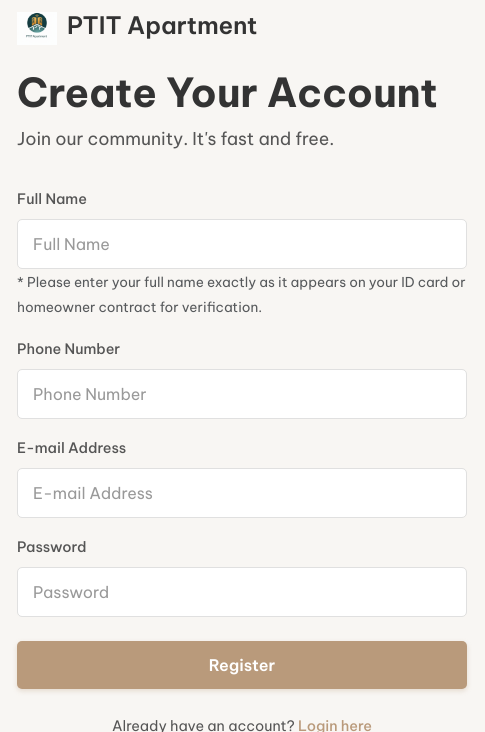
Test case: Register Page › handles successful registration
Type "John Doe" into the field with placeholder "Full Name" at (242, 244), box x1=17 y1=219 x2=467 y2=269
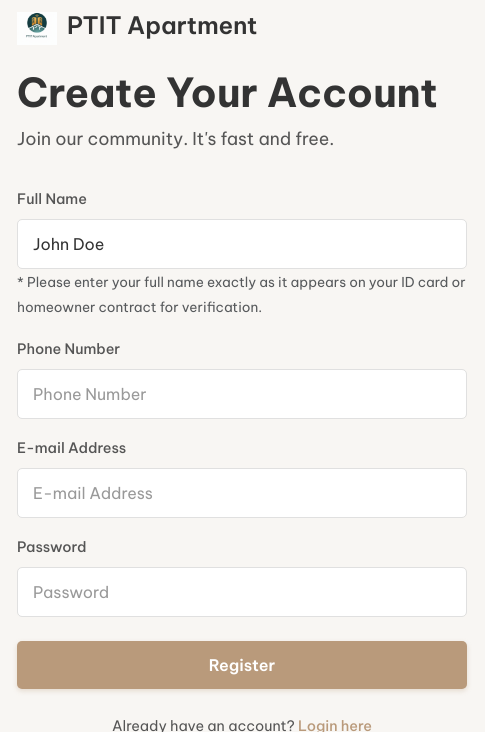
Type "123456789" into the field with placeholder "Phone Number" at (242, 394), box x1=17 y1=369 x2=467 y2=419
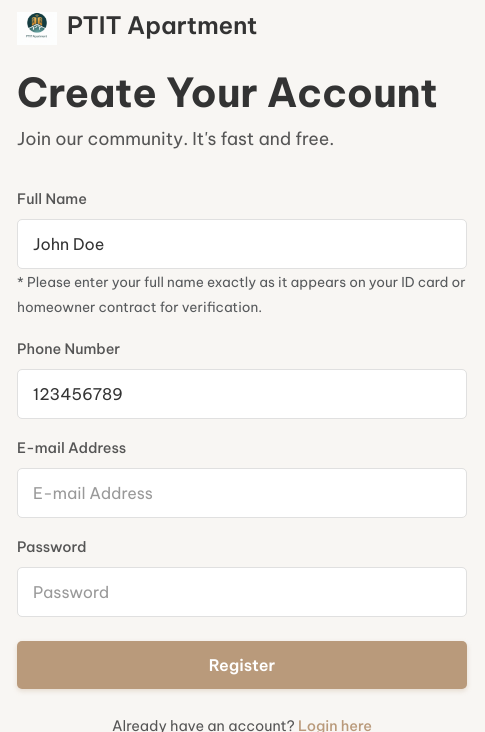
Type "john@example.com" into the field with placeholder "E-mail Address" at (242, 493), box x1=17 y1=468 x2=467 y2=518
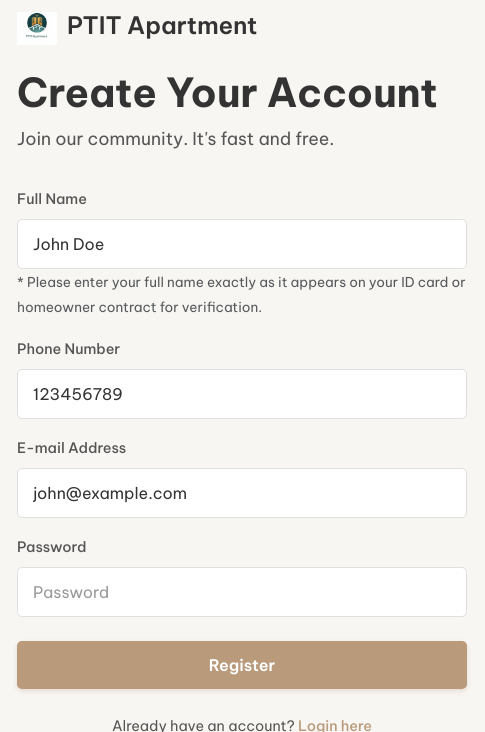
Type "password123" into the password field with placeholder "Password" at (242, 592), box x1=17 y1=567 x2=467 y2=617
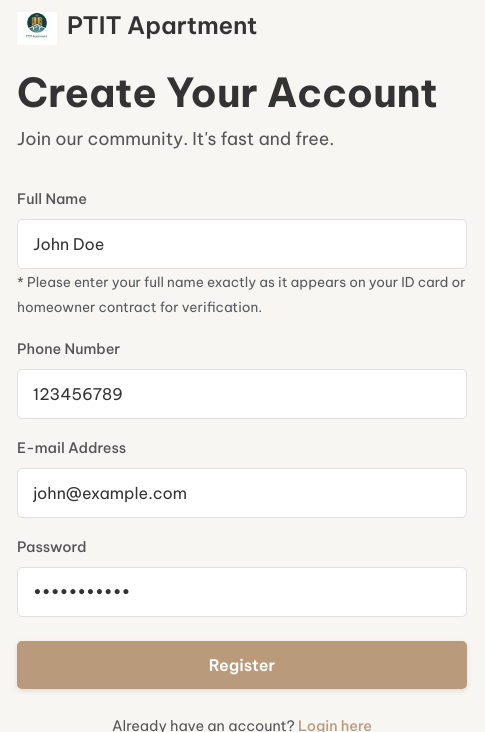
Click the button "Register" at (242, 665), box x1=17 y1=641 x2=467 y2=689
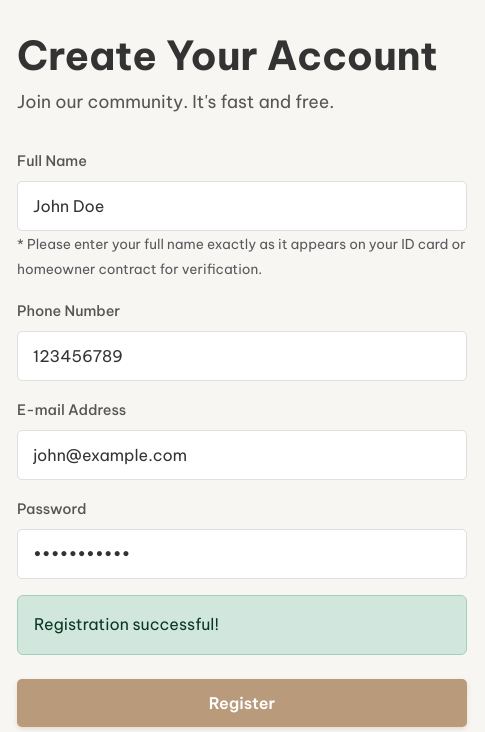
Result: the text "Registration successful!" is shown at x1=17 y1=595 x2=467 y2=655
